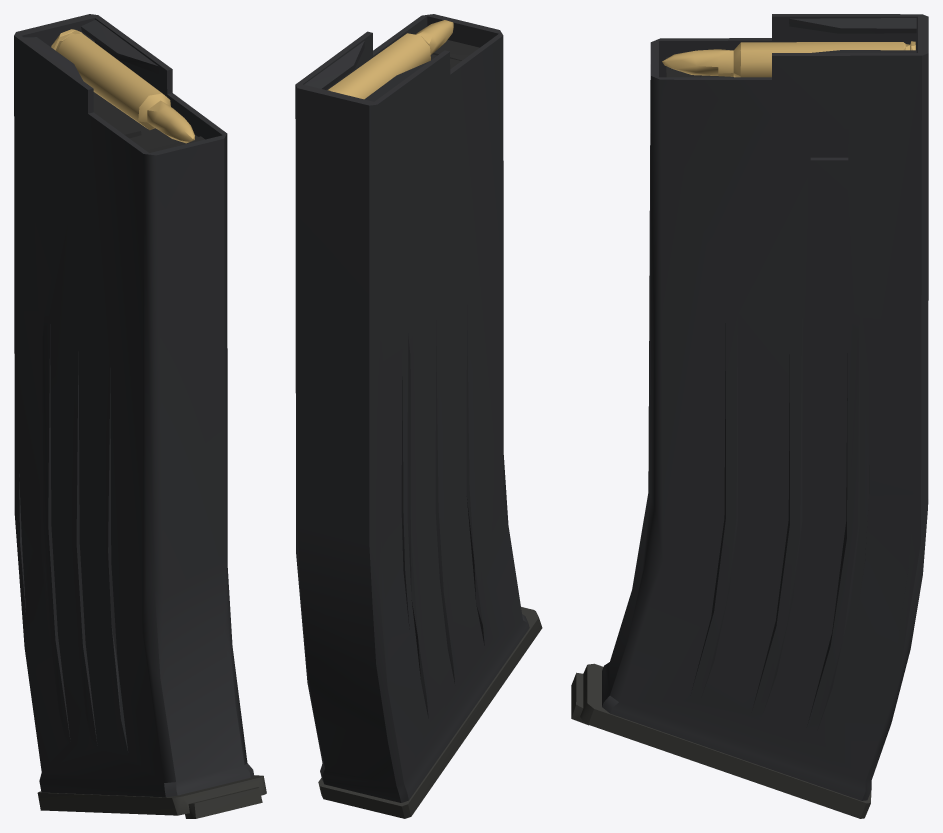
Rendered from SM_AR15_Mag30_Loaded_LOD2.fbx.
The picture shows the model from 3 angles, left to right: view 1: azimuth 30°, elevation 25°; view 2: azimuth 150°, elevation 25°; view 3: azimuth 270°, elevation 25°; orthographic projection. The views are drawn at different scales.
Parts seen in each view (by area): view 1: SM_AR15_Mag30_Loaded_LOD2; view 2: SM_AR15_Mag30_Loaded_LOD2; view 3: SM_AR15_Mag30_Loaded_LOD2.
Part boxes in pixels (bbox=[...]): SM_AR15_Mag30_Loaded_LOD2: bbox=[14, 14, 266, 818]; SM_AR15_Mag30_Loaded_LOD2: bbox=[295, 14, 542, 818]; SM_AR15_Mag30_Loaded_LOD2: bbox=[571, 14, 928, 818].
Bounding box in the file's own units: 2.43 × 8.07 × 19.
